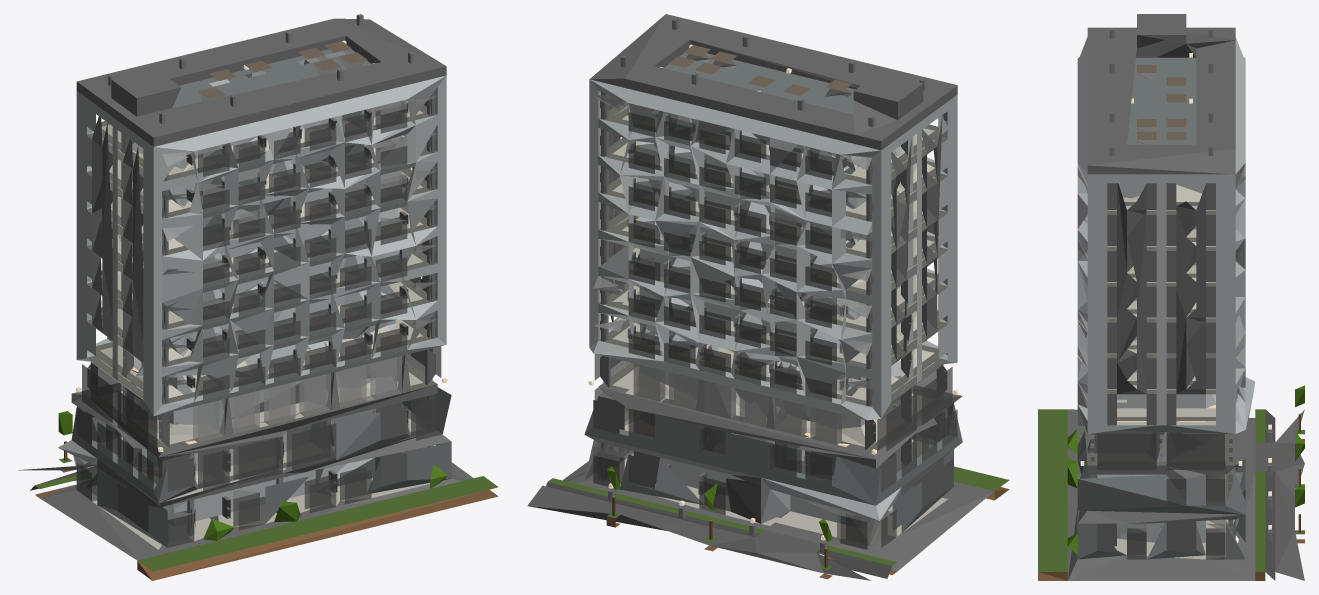
The picture shows the model from 3 angles, left to right: view 1: azimuth 30°, elevation 25°; view 2: azimuth 150°, elevation 25°; view 3: azimuth 270°, elevation 25°; orthographic projection. The views are drawn at different scales.
Parts seen in each view (by area): view 1: Object_2, Object_10; view 2: Object_2, Object_10; view 3: Object_2, Object_10.
Boxes of the visible parts, x1,y1,x2,y2 form: Object_2: [18, 14, 498, 580]; Object_10: [73, 96, 442, 547]; Object_2: [527, 14, 1009, 580]; Object_10: [593, 94, 957, 549]; Object_2: [1038, 14, 1304, 580]; Object_10: [1077, 57, 1245, 559].
Bounding box in the file's own units: 39 × 47 × 27.
